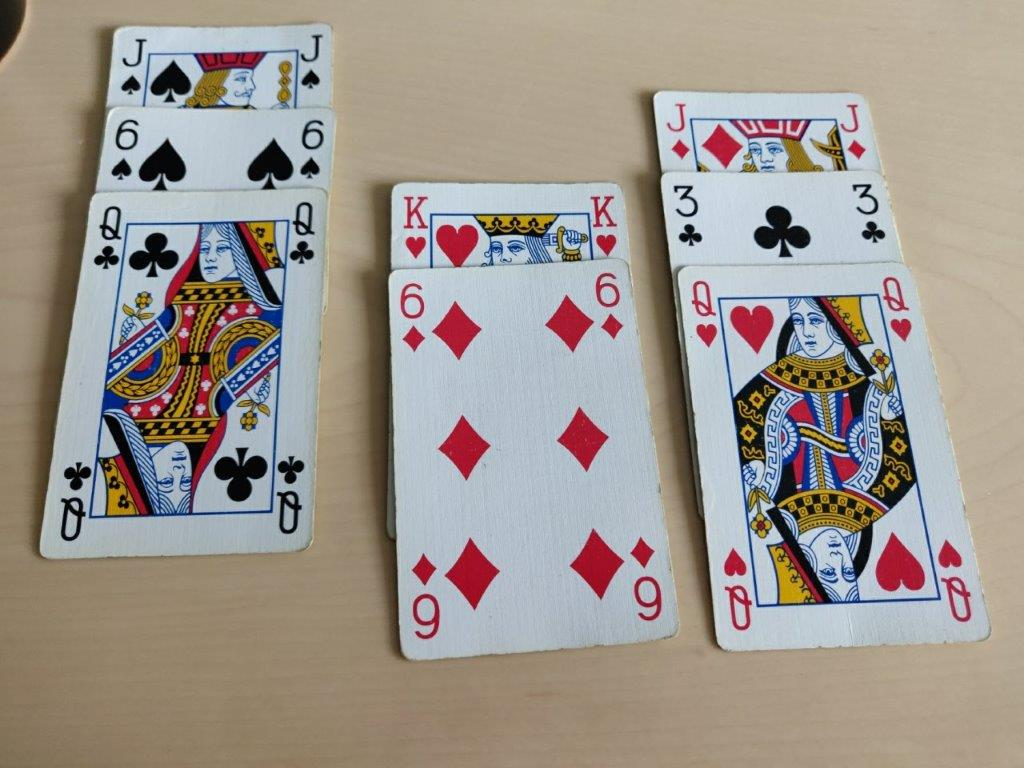3C: (666, 176, 710, 254), (846, 178, 890, 256)
6D: (391, 273, 430, 360), (589, 268, 628, 355)
6S: (110, 112, 142, 187), (297, 114, 329, 189)
JD: (837, 95, 869, 167), (659, 90, 691, 162)
JS: (116, 34, 149, 100), (294, 30, 327, 96)
KH: (393, 185, 435, 263), (584, 186, 621, 258)
QC: (92, 201, 126, 276), (287, 196, 321, 271)
QH: (682, 270, 727, 353), (877, 272, 922, 355)
